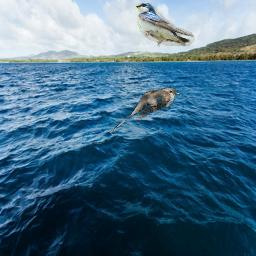Cuckoo: (109, 87, 181, 134)
Swallow: (135, 3, 195, 47)
